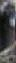cylinder: (1, 1, 16, 63)
